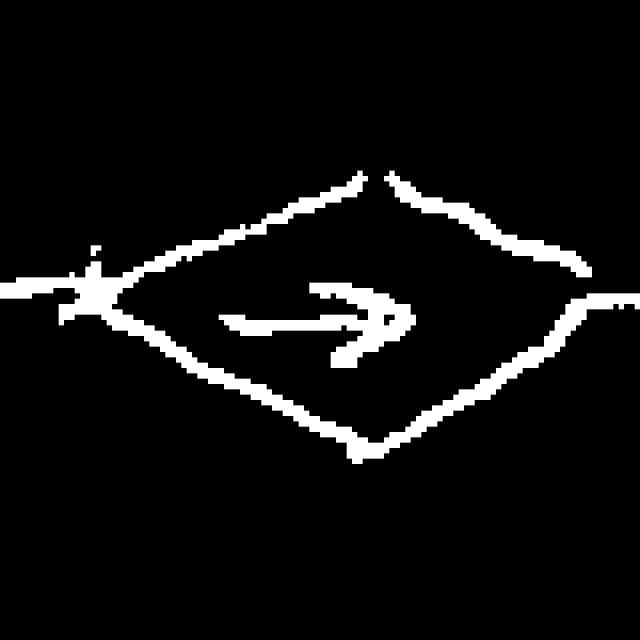dependant_current: (97, 127, 602, 476)
